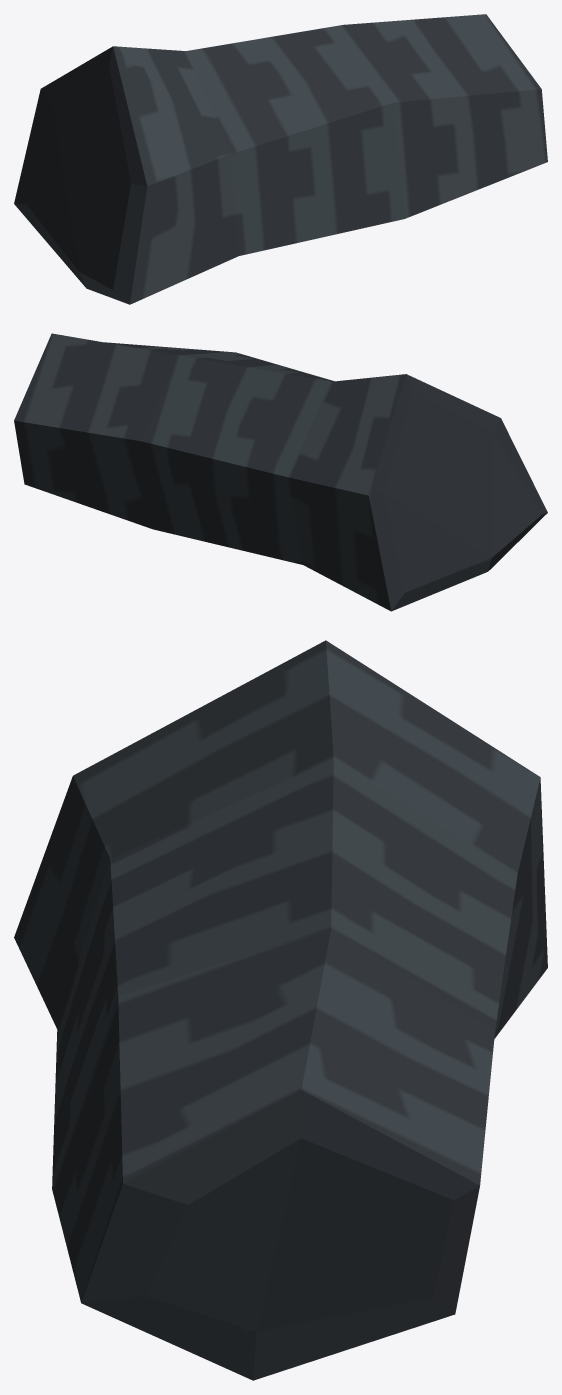
Rendered from Chr_ArmUpperLeft_Male_19_Static.fbx.
3 views of the same model, one above another, from view 1: azimuth 30°, elevation 25°; view 2: azimuth 150°, elevation 25°; view 3: azimuth 270°, elevation 25° (orthographic). The views are drawn at different scales.
Parts seen in each view (by area): view 1: Chr_ArmUpperLeft_Male_19_Static; view 2: Chr_ArmUpperLeft_Male_19_Static; view 3: Chr_ArmUpperLeft_Male_19_Static.
Part boxes in pixels (box(x1,y1,x2,y2)): Chr_ArmUpperLeft_Male_19_Static: box(14, 14, 547, 304); Chr_ArmUpperLeft_Male_19_Static: box(14, 333, 547, 611); Chr_ArmUpperLeft_Male_19_Static: box(14, 640, 547, 1380).
Bounding box in the file's own units: 0.3255 × 0.1491 × 0.1736.
